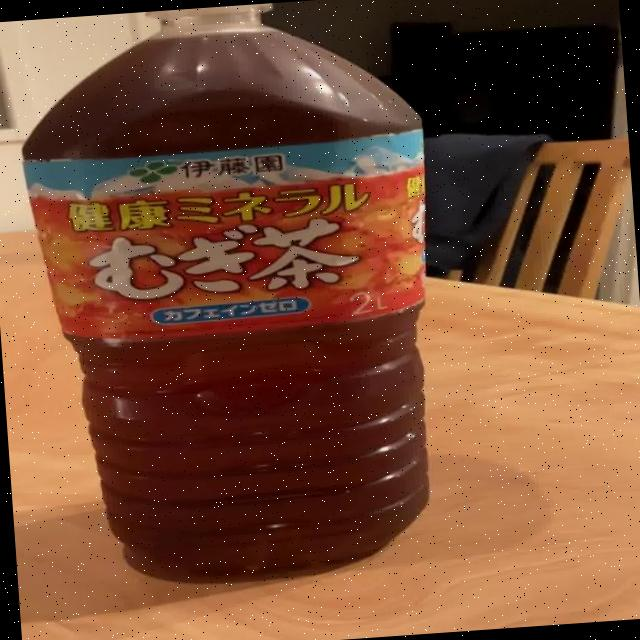bottle: (11, 0, 456, 598)
label: (1, 128, 442, 344)
